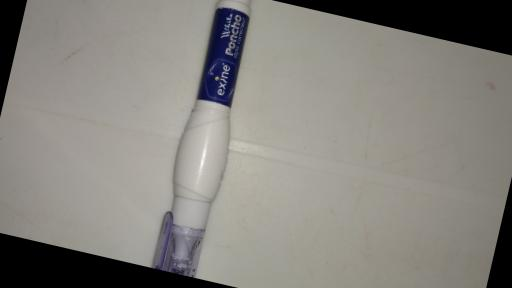Correction pen: (150, 0, 264, 278)
